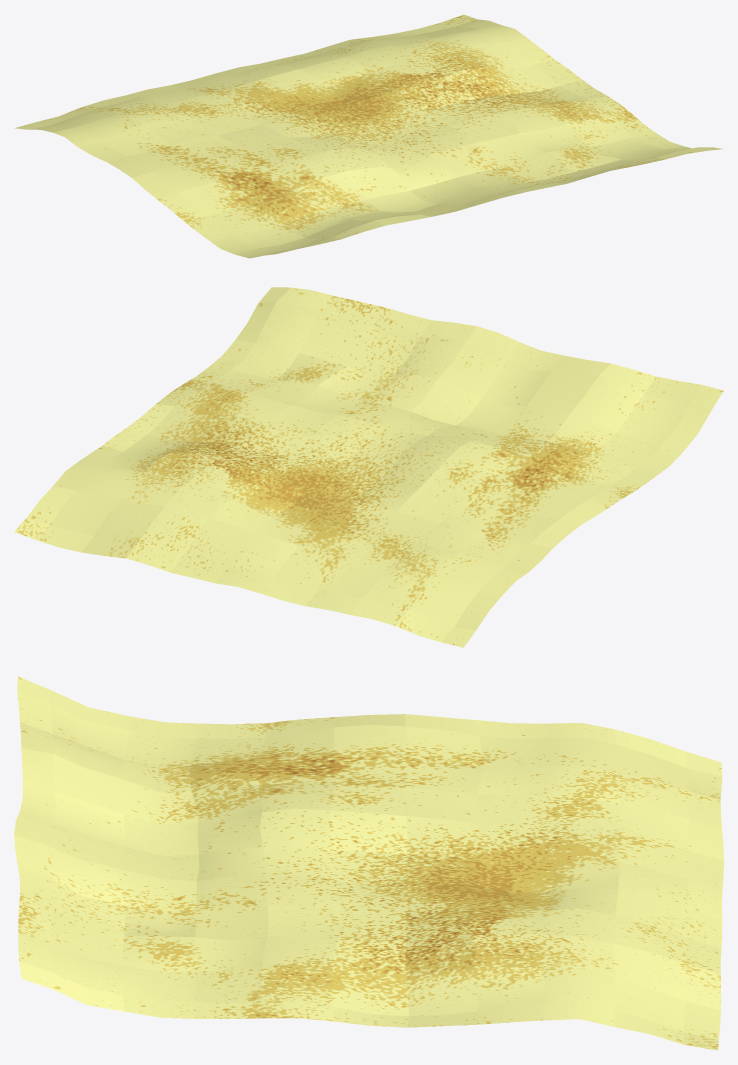
Rendered from SandGround.fbx.
3 views of the same model, one above another, from view 1: azimuth 30°, elevation 25°; view 2: azimuth 150°, elevation 25°; view 3: azimuth 270°, elevation 25° (orthographic). The views are drawn at different scales.
Visible parts, largest first — view 1: sandy_floor; view 2: sandy_floor; view 3: sandy_floor.
Boxes of the visible parts, x1,y1,x2,y2 form: sandy_floor: (14,14,722,258); sandy_floor: (14,287,723,647); sandy_floor: (14,676,723,1050).
Size of the model in its own units: 3276 by 466 by 3301.
1 material, 1 textured.
